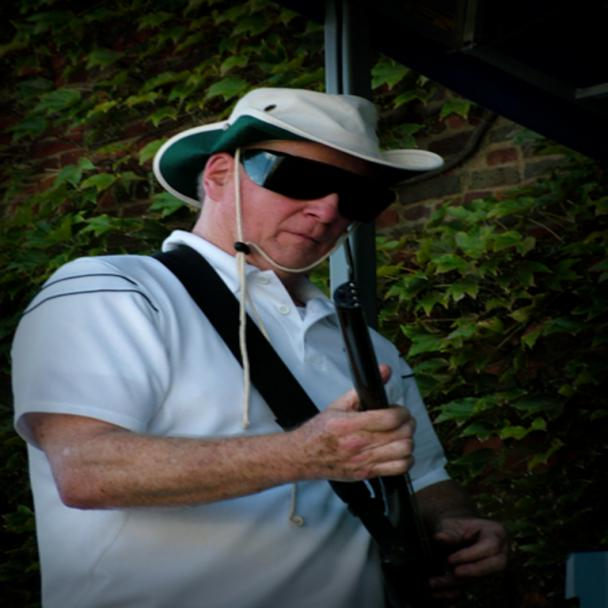Gun: (289, 0, 461, 607)
Hand: (188, 399, 427, 498)
